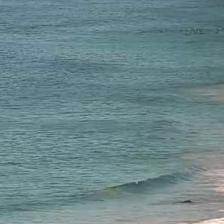surfer: (199, 28, 205, 33), (216, 28, 222, 32), (160, 30, 164, 33)
